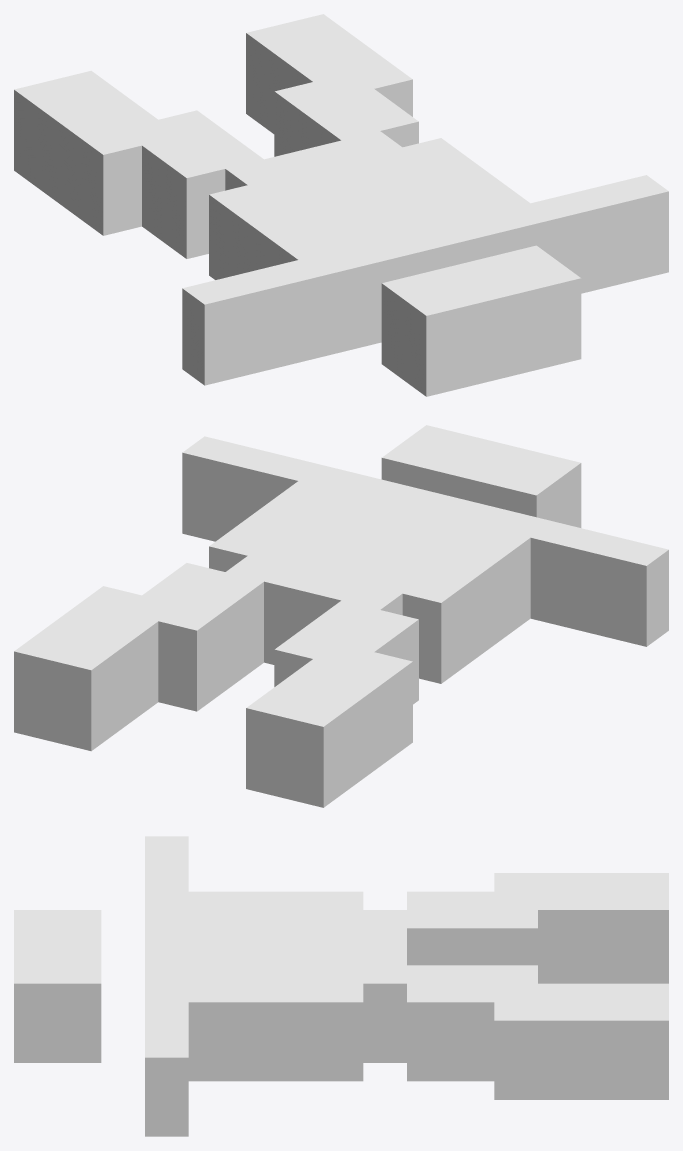
Rendered from pokeman1920TB_wtf.obj.
3 renders of one model, top to bottom at view 1: azimuth 30°, elevation 25°; view 2: azimuth 150°, elevation 25°; view 3: azimuth 270°, elevation 25°, orthographic. The views are drawn at different scales.
Visible parts, largest first — view 1: group1, group2; view 2: group2, group1; view 3: group2, group1.
Boxes of the visible parts, <box> form: group1: <box>182,154,668,396</box>; group2: <box>14,14,462,279</box>; group2: <box>14,530,463,807</box>; group1: <box>182,425,668,667</box>; group2: <box>319,873,668,1099</box>; group1: <box>14,836,319,1136</box>.
Bounding box in the file's own units: 528 × 88.01 × 660.
